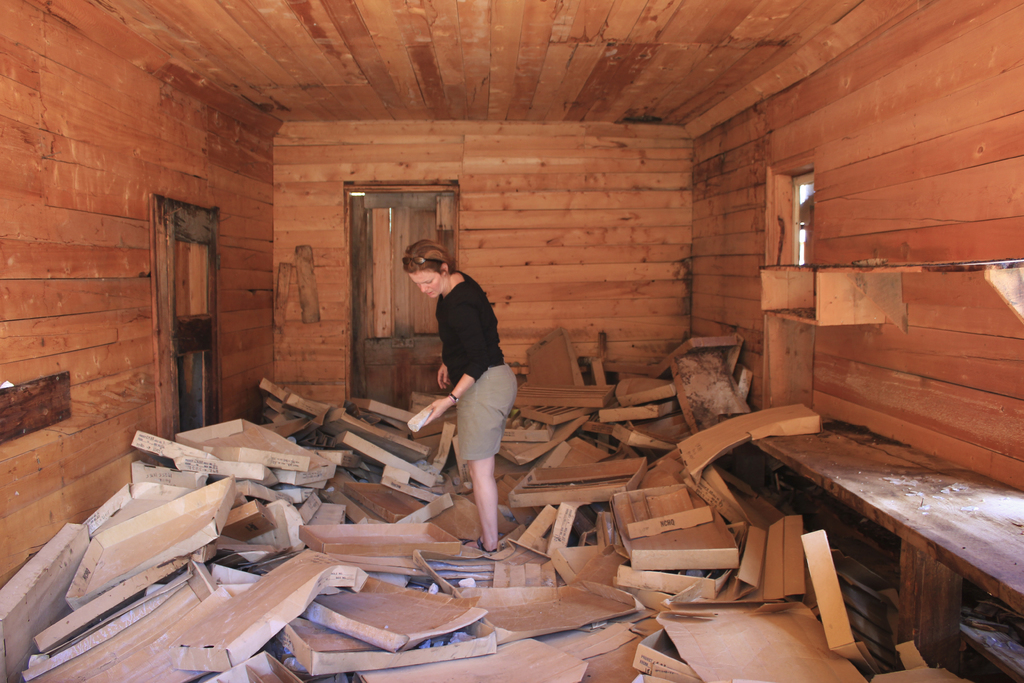Person: (402, 239, 517, 555)
